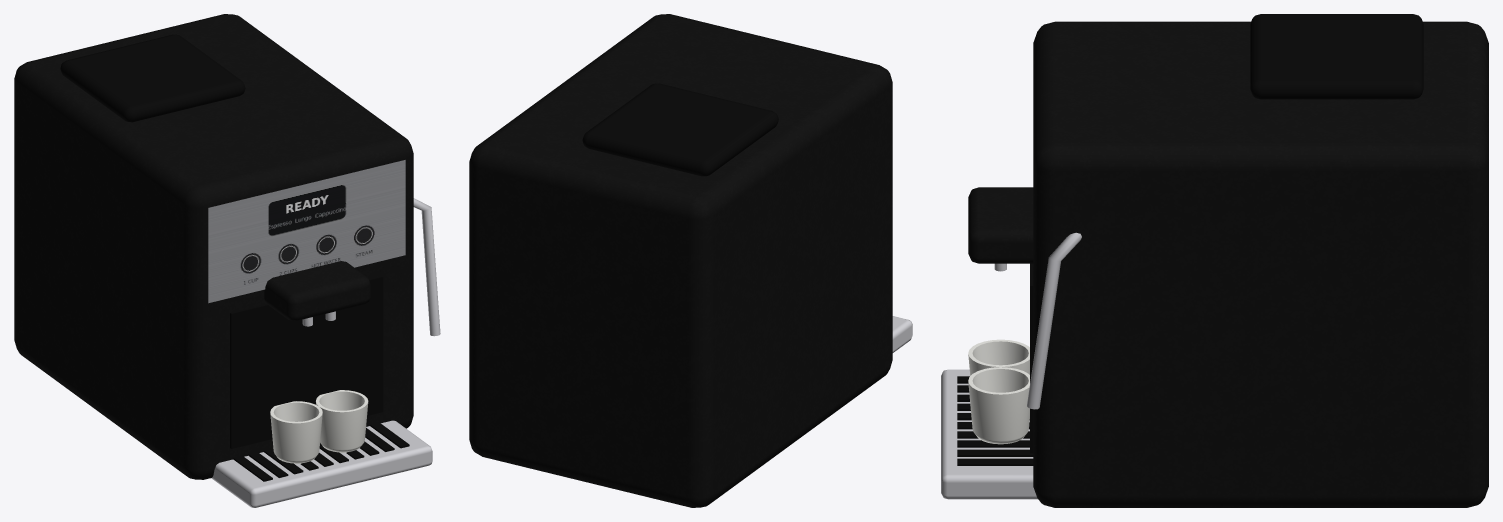
The model's file is CoffeeMachine.obj.
3 views of the same model, side by side, from view 1: azimuth 30°, elevation 25°; view 2: azimuth 150°, elevation 25°; view 3: azimuth 270°, elevation 25° (orthographic). The views are drawn at different scales.
Parts seen in each view (by area): view 1: Body, Recess, Panel, GlossBlack, Steel, Cup; view 2: Body, GlossBlack, Steel; view 3: Body, GlossBlack, Steel, Cup, Recess.
Boxes of the visible parts, x1=… form: Body: x1=14, y1=14, x2=413, y2=479; Recess: x1=230, y1=276, x2=409, y2=481; Panel: x1=208, y1=160, x2=405, y2=303; GlossBlack: x1=60, y1=34, x2=245, y2=122; Steel: x1=211, y1=198, x2=440, y2=507; Cup: x1=270, y1=390, x2=368, y2=464; Body: x1=469, y1=14, x2=892, y2=507; GlossBlack: x1=582, y1=83, x2=778, y2=176; Steel: x1=892, y1=316, x2=912, y2=352; Body: x1=968, y1=21, x2=1488, y2=507; GlossBlack: x1=1250, y1=14, x2=1423, y2=99; Steel: x1=941, y1=232, x2=1081, y2=499; Cup: x1=968, y1=339, x2=1029, y2=444; Recess: x1=957, y1=263, x2=1033, y2=465.
Size of the model in its own units: 0.326 by 0.388 by 0.505.
6 materials, 2 textured.
